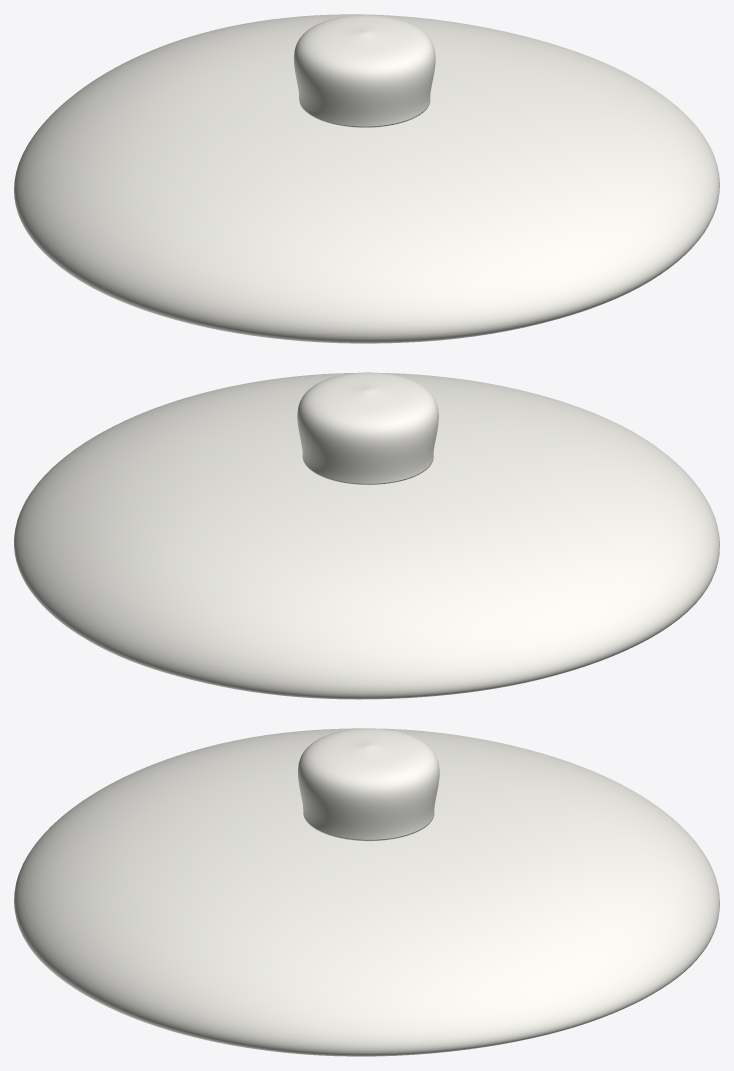
The model's file is Not Lid 3.glb.
3 views of the same model, one above another, from view 1: azimuth 30°, elevation 25°; view 2: azimuth 150°, elevation 25°; view 3: azimuth 270°, elevation 25° (orthographic).
Visible parts, largest first — view 1: Sphere, Lathe; view 2: Sphere, Lathe; view 3: Sphere, Lathe.
Part boxes in pixels (x1=…): Sphere: x1=14, y1=14, x2=719, y2=343; Lathe: x1=293, y1=15, x2=435, y2=127; Sphere: x1=14, y1=373, x2=719, y2=699; Lathe: x1=297, y1=372, x2=438, y2=484; Sphere: x1=14, y1=728, x2=719, y2=1056; Lathe: x1=298, y1=728, x2=439, y2=841.
Size of the model in its own units: 0.4482 by 0.1172 by 0.4458.
2 materials, 2 textured.
